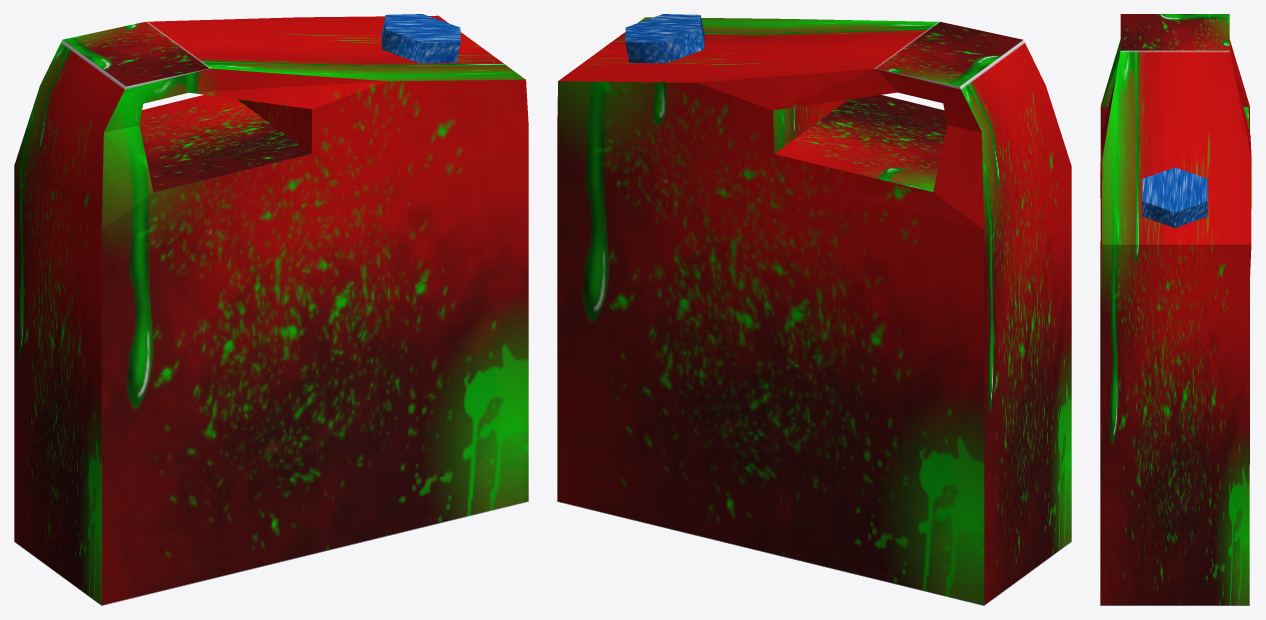
File: Gasoline_Prefab.fbx
The picture shows the model from 3 angles, left to right: view 1: azimuth 30°, elevation 25°; view 2: azimuth 150°, elevation 25°; view 3: azimuth 270°, elevation 25°; orthographic projection. The views are drawn at different scales.
Parts seen in each view (by area): view 1: Cannister; view 2: Cannister; view 3: Cannister.
Boxes of the visible parts, x1,y1,x2,y2 form: Cannister: (14,14,528,605); Cannister: (557,14,1071,605); Cannister: (1100,14,1251,605).
Size of the model in its own units: 16.79 by 18.87 by 6.03.
